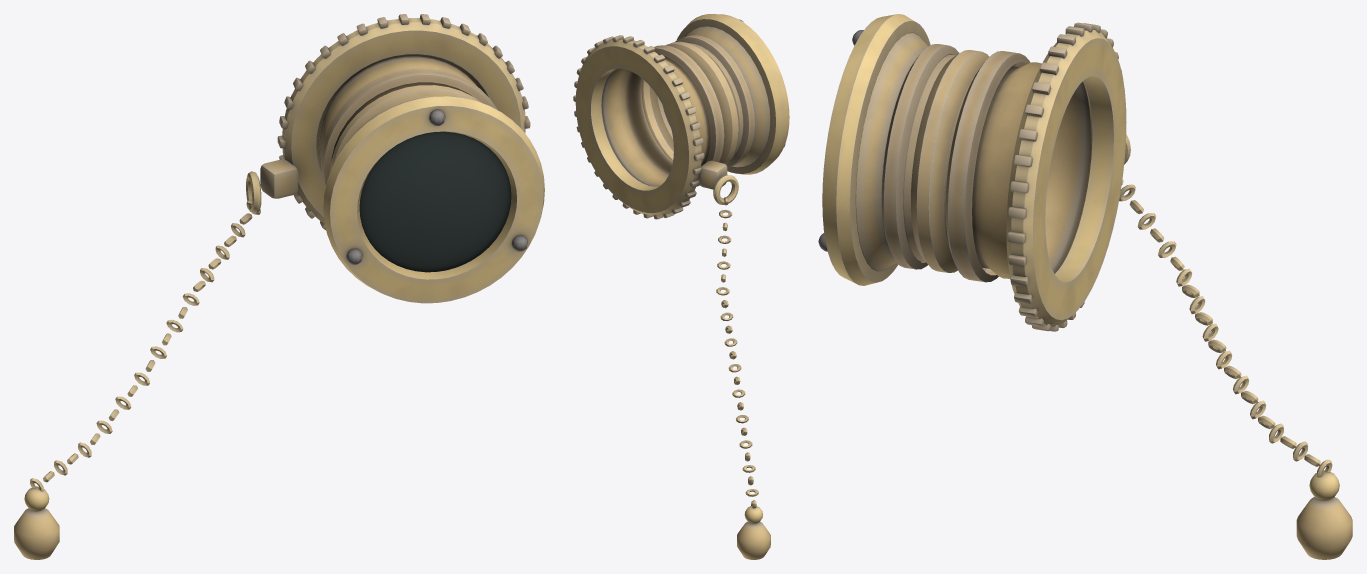
Rendered from NHAcc_LoupeMonocle.fbx.
The picture shows the model from 3 angles, left to right: view 1: azimuth 30°, elevation 25°; view 2: azimuth 150°, elevation 25°; view 3: azimuth 270°, elevation 25°; orthographic projection. The views are drawn at different scales.
Parts seen in each view (by area): view 1: LoupeMonocle; view 2: LoupeMonocle; view 3: LoupeMonocle.
Boxes of the visible parts, box(x1,y1,x2,y2) form: LoupeMonocle: box(14, 14, 544, 559); LoupeMonocle: box(573, 14, 789, 559); LoupeMonocle: box(818, 14, 1352, 559).
Size of the model in its own units: 0.4275 by 0.588 by 0.42.
1 material, 1 textured.
